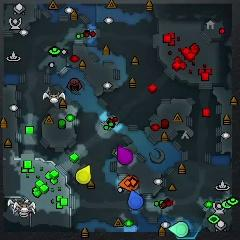p1: (129, 190, 144, 210)
p2: (167, 221, 190, 237)
p3: (116, 145, 134, 166)
p4: (76, 164, 92, 184)
p5: (118, 173, 140, 190)
